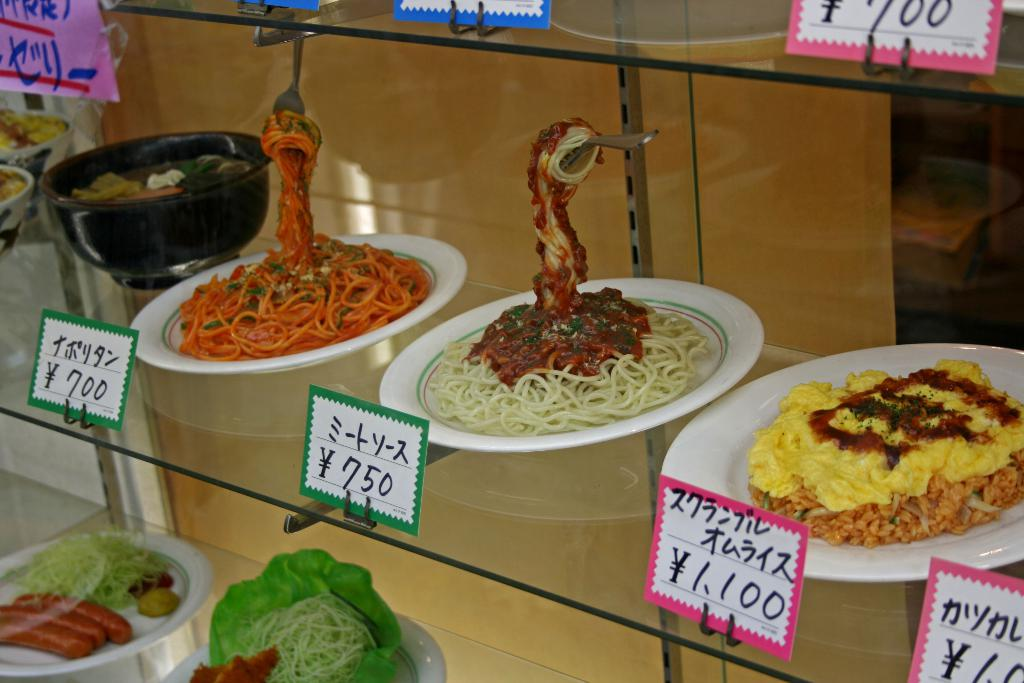pasta: (161, 235, 427, 359)
